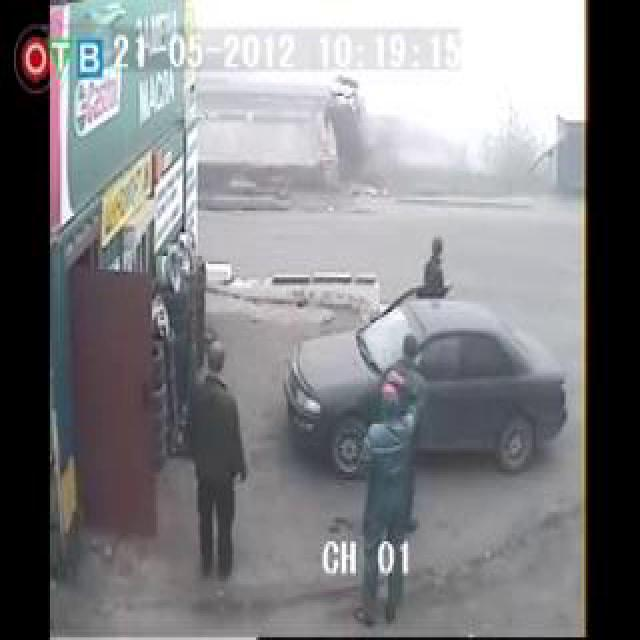road accidents: (239, 0, 551, 631)
